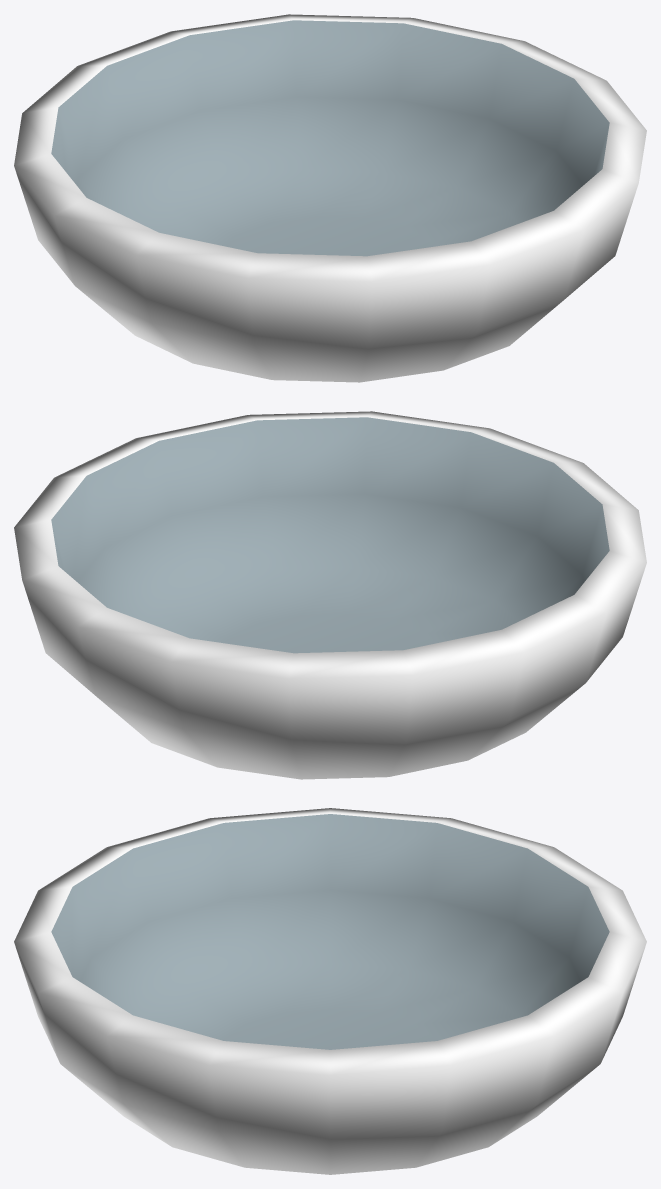
File: Bowl.fbx
3 views of the same model, one above another, from view 1: azimuth 30°, elevation 25°; view 2: azimuth 150°, elevation 25°; view 3: azimuth 270°, elevation 25° (orthographic).
Parts seen in each view (by area): view 1: Bowl; view 2: Bowl; view 3: Bowl.
Part boxes in pixels (x1,y1,x2,y2): Bowl: (14, 14, 646, 382); Bowl: (14, 411, 646, 779); Bowl: (14, 808, 646, 1174).
Bounding box in the file's own units: 0.6522 × 0.1849 × 0.6522.
